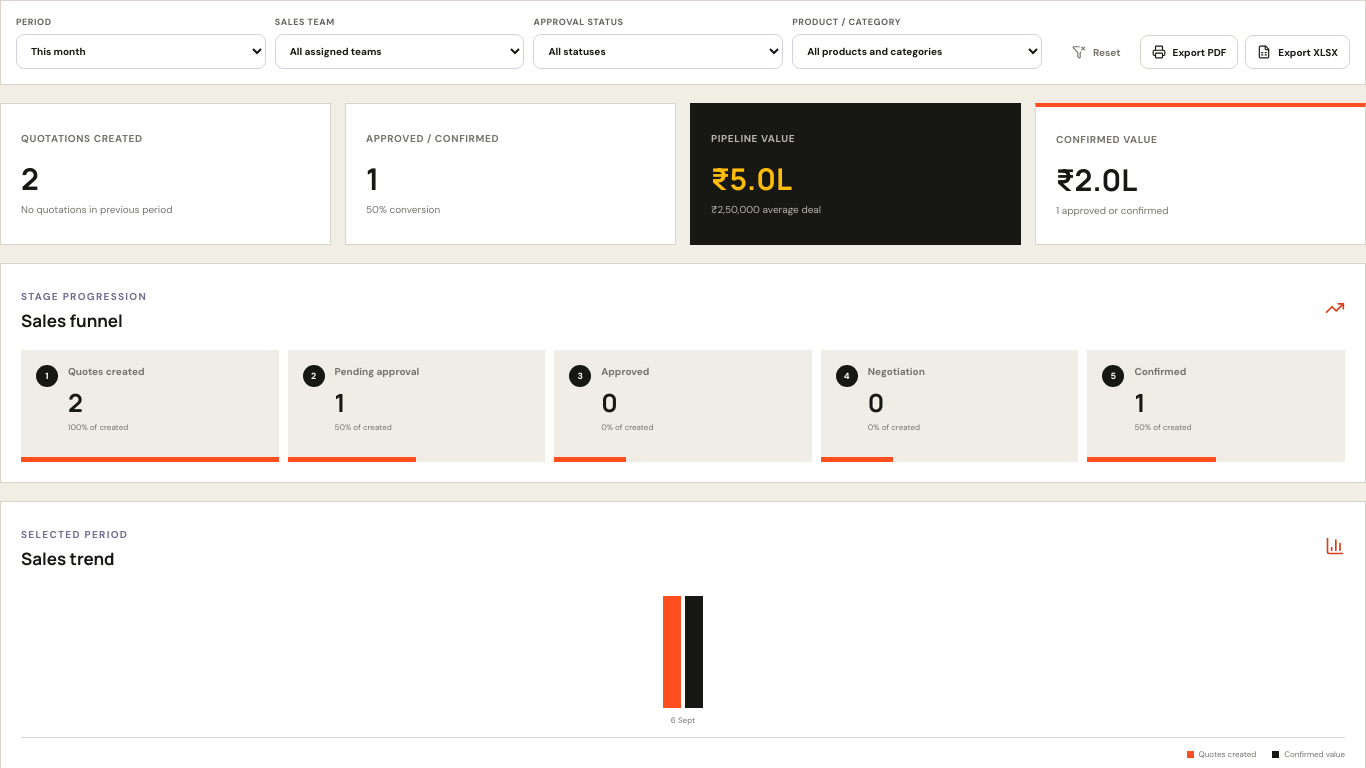
Sales Reporting › applies status and representative filters to every report section
Select "Confirmed" in the dropdown labelled "Approval status" at (658, 52), box x1=534 y1=34 x2=783 y2=69
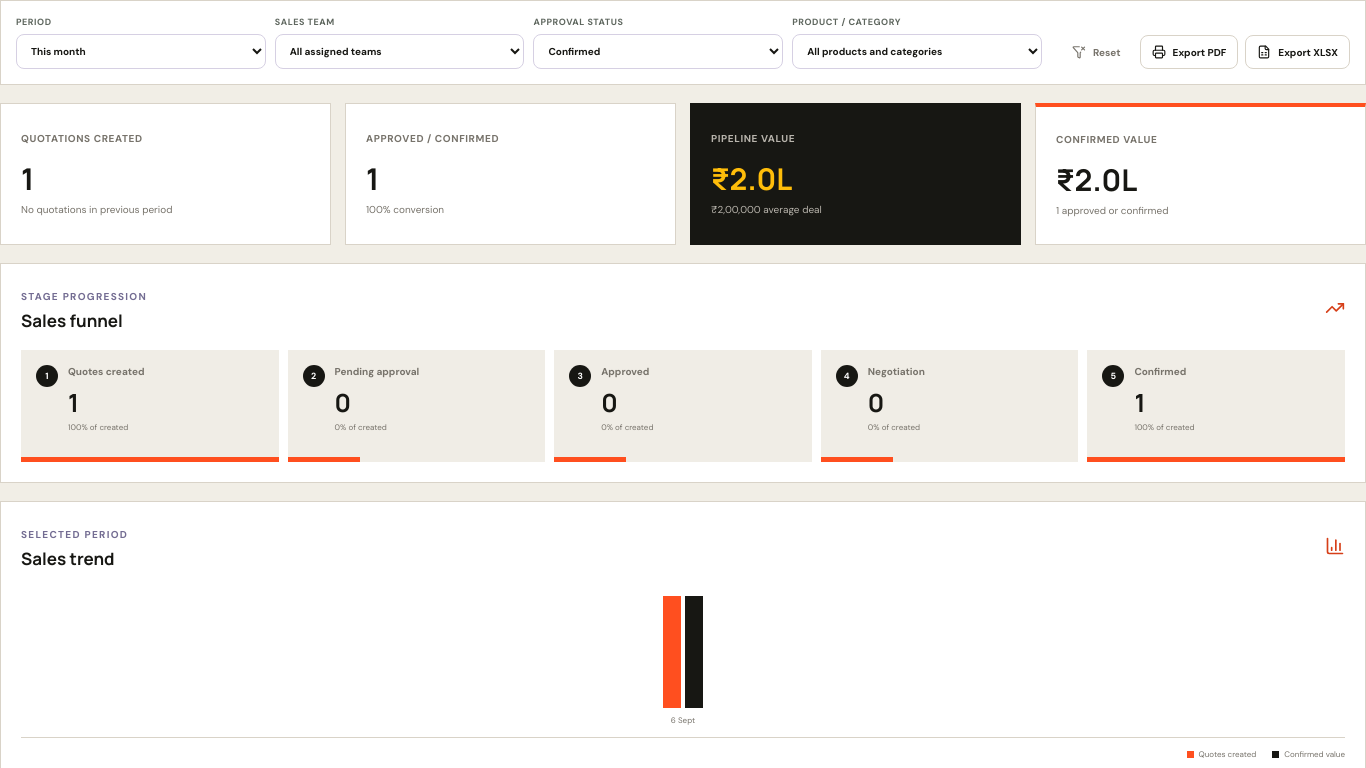
Expected: the text "Maya Shah" is not shown
Expected: the text "1" below "Quotations created" is shown, x1=21 y1=158 x2=34 y2=198
Select "Maya Shah" in the dropdown labelled "Sales team" at (400, 52), box x1=275 y1=34 x2=524 y2=69
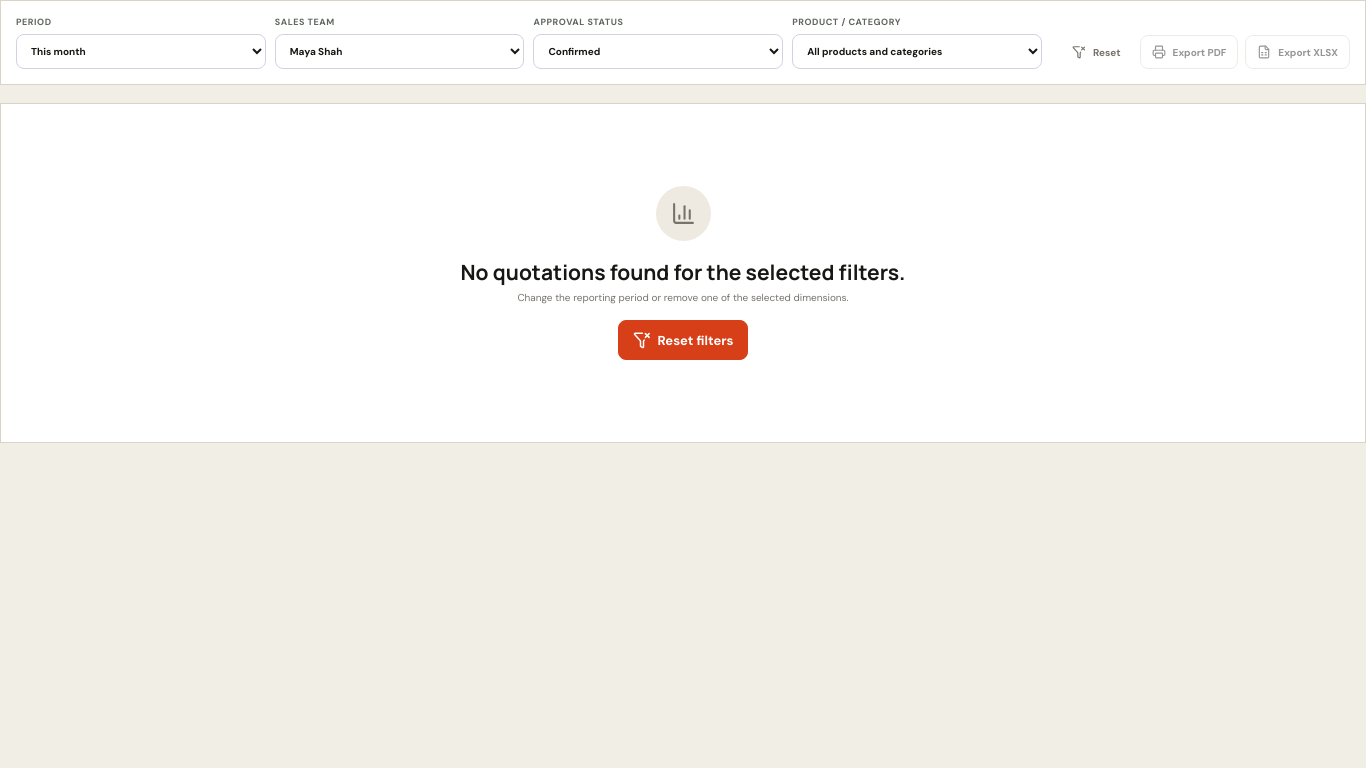
Expected: the heading "No quotations found for the selected filters." is shown, x1=460 y1=258 x2=905 y2=286
